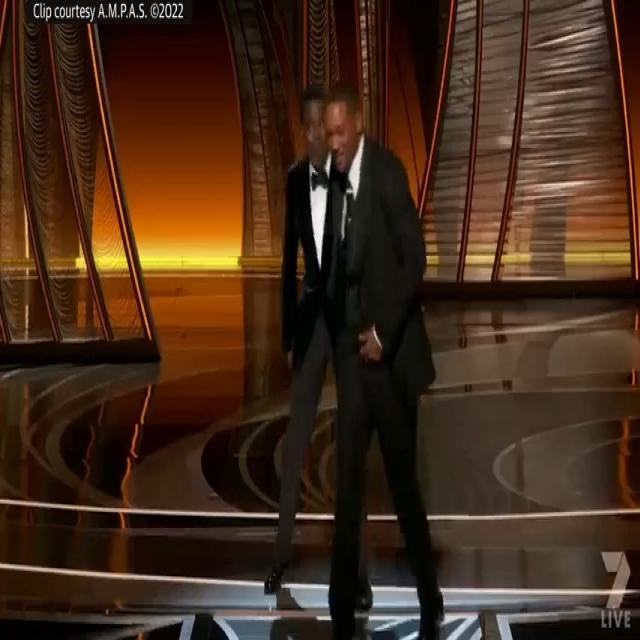non-fight: (256, 59, 452, 640)
